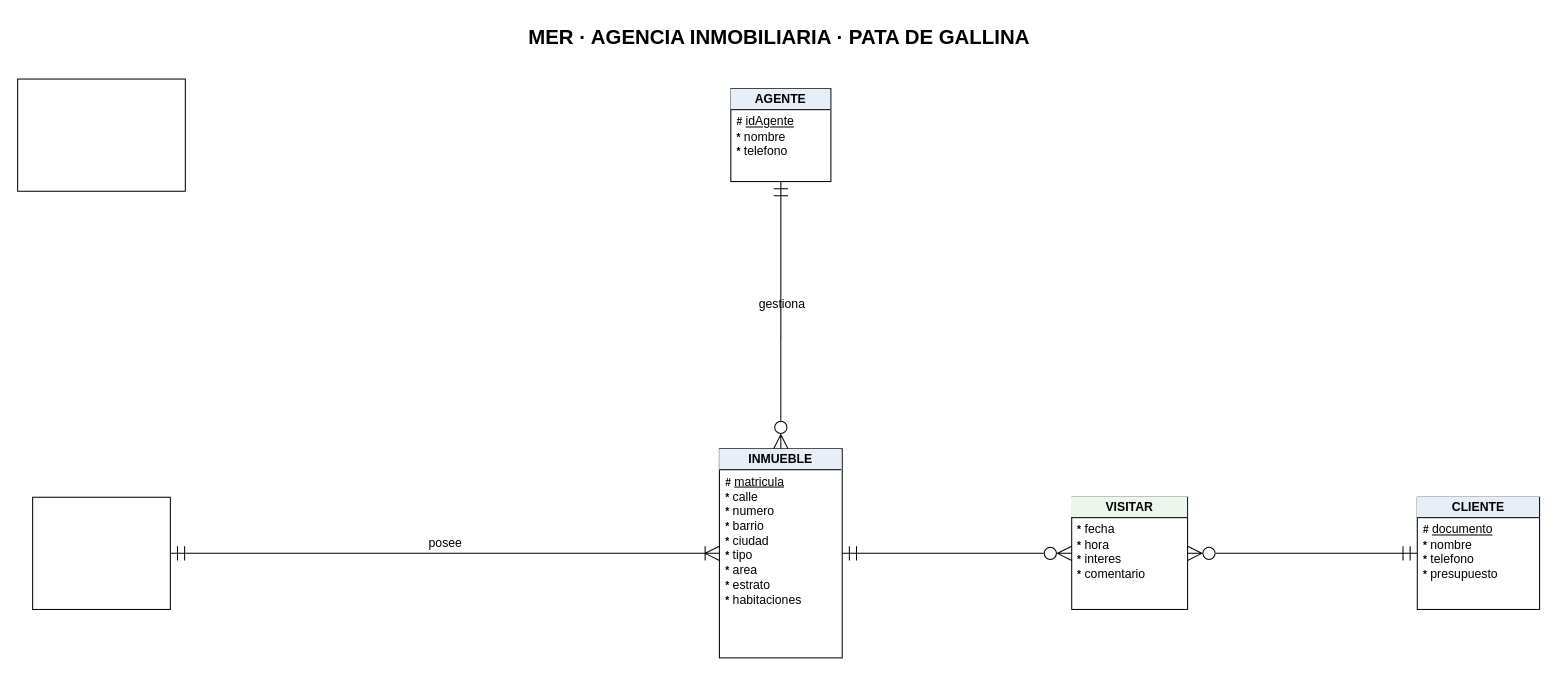
This 1559x675 diagram has some shape labels left out. Here are the shapes that lost their labels. From the top down, the centre of each, then its label:
the point at 101,134: RANGO_COMISION # idRango * valorMin * valorMax * porcentaje
the point at 101,552: PROPIETARIO # documento * nombre * correo { } telefono
